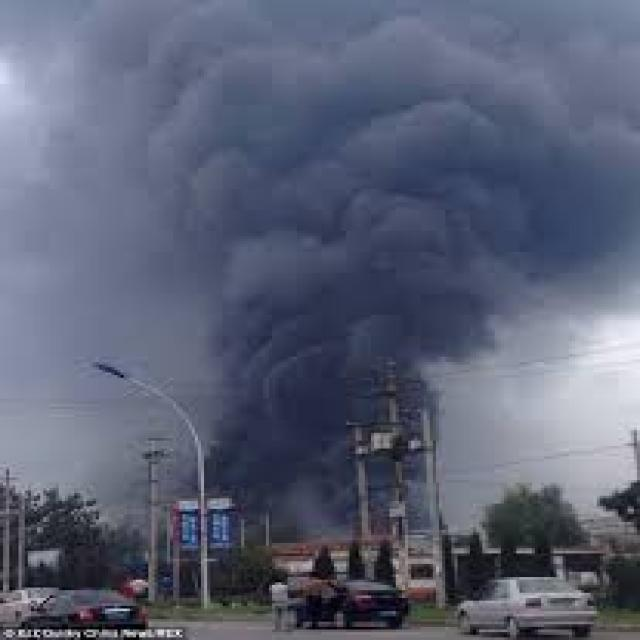smoke: (202, 26, 537, 427)
